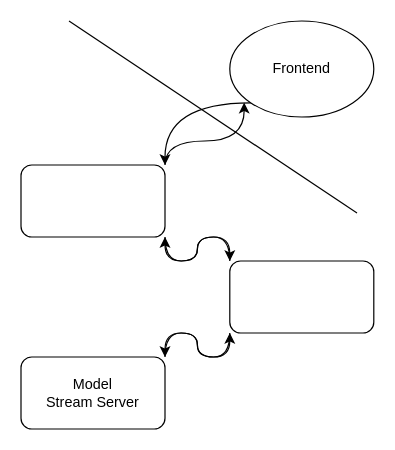
Some shapes in this 395 by 450 pixel diagram are drawn without their labels. The shapes that lost their labels are listed below. From the top down, each one's box as (x1, y1, x2, y2) in pixels, then its label:
(20, 164, 165, 237): Router signup login
(229, 260, 374, 333): Controller signup login
